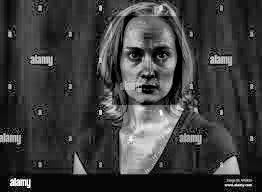sad: (112, 16, 182, 105)
